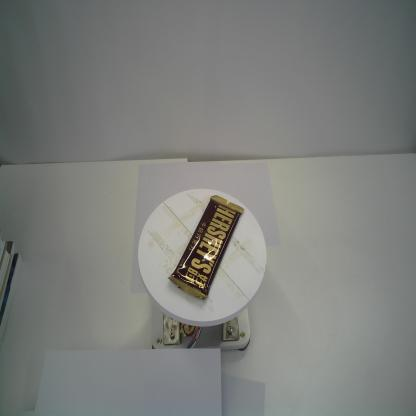Chocolate: (166, 194, 246, 302)
